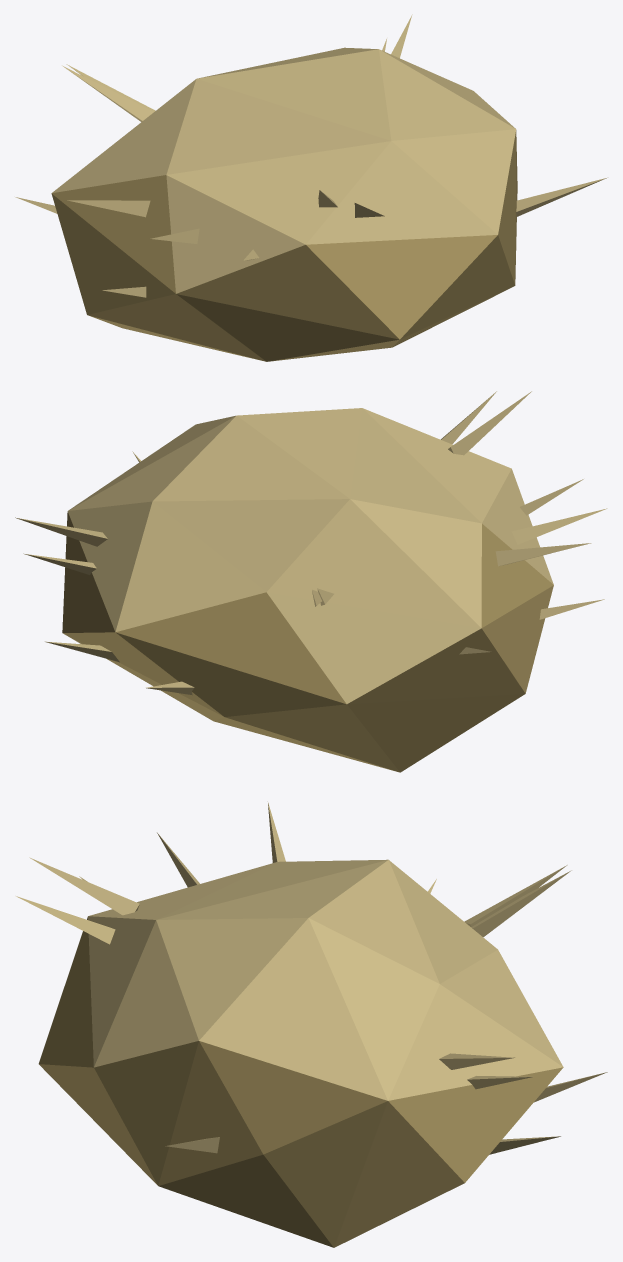
File: strawpile.glb
3 renders of one model, top to bottom at view 1: azimuth 30°, elevation 25°; view 2: azimuth 150°, elevation 25°; view 3: azimuth 270°, elevation 25°, orthographic. The views are drawn at different scales.
Visible parts, largest first — view 1: base; view 2: base; view 3: base.
Part boxes in pixels (box(x1,y1,x2,y2)): base: box(15, 14, 607, 361); base: box(15, 391, 607, 772); base: box(16, 802, 607, 1247).
Size of the model in its own units: 0.4489 by 0.2334 by 0.4142.
